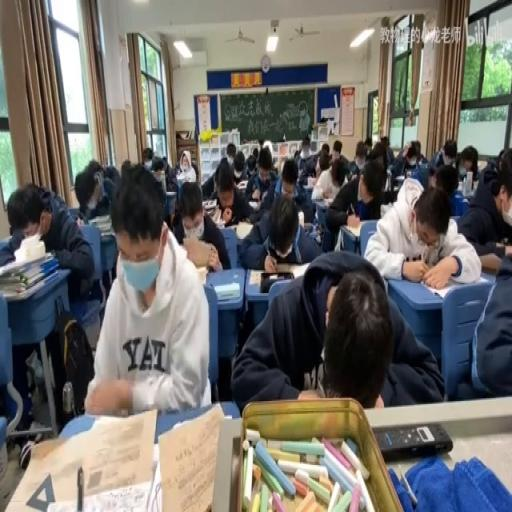calculator: (2, 405, 160, 509), (157, 401, 226, 512), (1, 270, 56, 299), (247, 259, 309, 283), (420, 280, 462, 300), (14, 232, 44, 260), (186, 257, 210, 286), (480, 250, 511, 272), (86, 212, 113, 235), (214, 282, 240, 300), (234, 219, 252, 240), (345, 218, 364, 236), (312, 195, 328, 206), (212, 205, 222, 222), (301, 220, 314, 232), (344, 170, 353, 184), (306, 176, 316, 188), (202, 199, 215, 208), (246, 201, 260, 209), (236, 179, 248, 188), (298, 210, 304, 228), (394, 174, 405, 182), (165, 189, 176, 196)
paper: (232, 247, 440, 411), (83, 165, 210, 415), (2, 176, 95, 424), (364, 178, 480, 287), (454, 246, 512, 401), (238, 185, 318, 266), (172, 179, 230, 270), (74, 158, 118, 222), (388, 140, 422, 180), (149, 151, 178, 192), (298, 142, 326, 182), (430, 164, 460, 200), (326, 138, 352, 176), (456, 144, 478, 180), (362, 164, 384, 199), (366, 139, 389, 171), (478, 153, 501, 185), (201, 169, 219, 199), (279, 165, 298, 193), (232, 150, 246, 184), (347, 148, 362, 176), (168, 196, 178, 229), (260, 138, 274, 161), (442, 144, 457, 165), (140, 145, 154, 166), (497, 146, 509, 166), (190, 159, 198, 181), (363, 135, 372, 154), (250, 145, 260, 161), (120, 160, 130, 176), (293, 148, 300, 165), (321, 148, 329, 161), (302, 145, 310, 157), (160, 155, 166, 168)
person: (374, 422, 451, 461)
